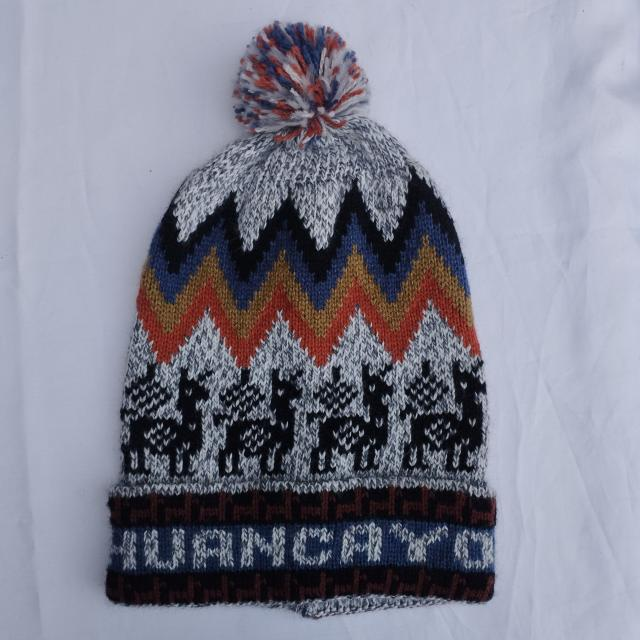Gorro: (105, 20, 498, 618)
